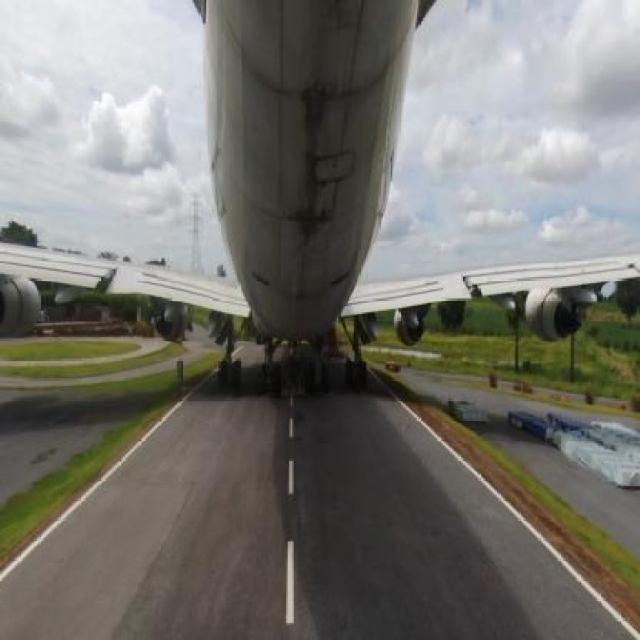Scartch: (230, 23, 402, 105), (287, 103, 333, 291)
